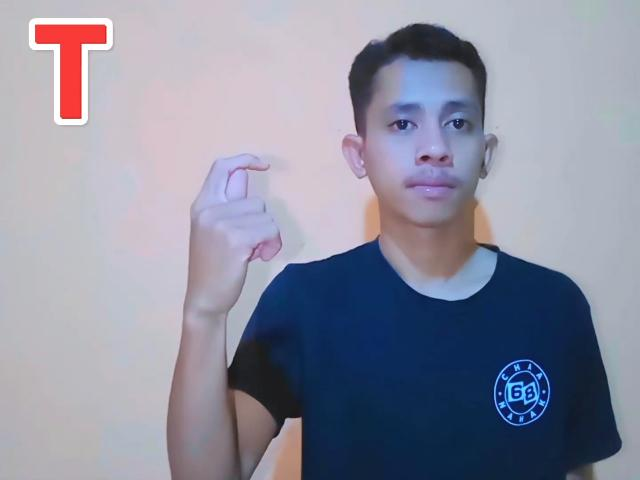T: (182, 150, 282, 310)
